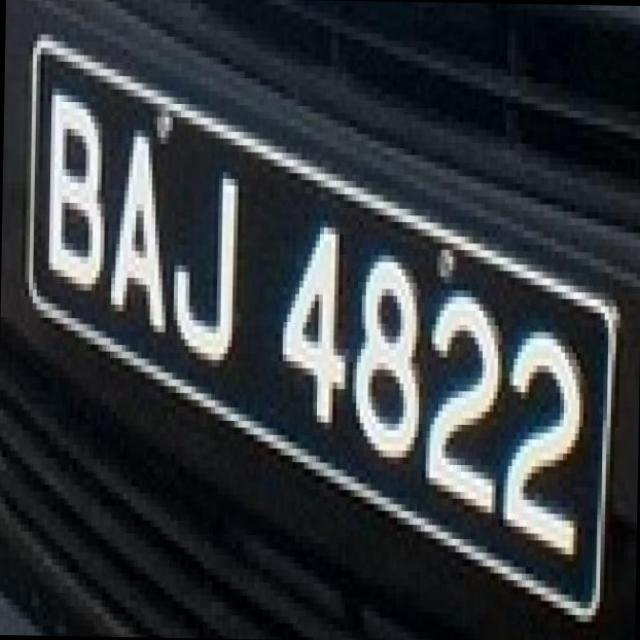License Plate: (29, 37, 611, 619)
